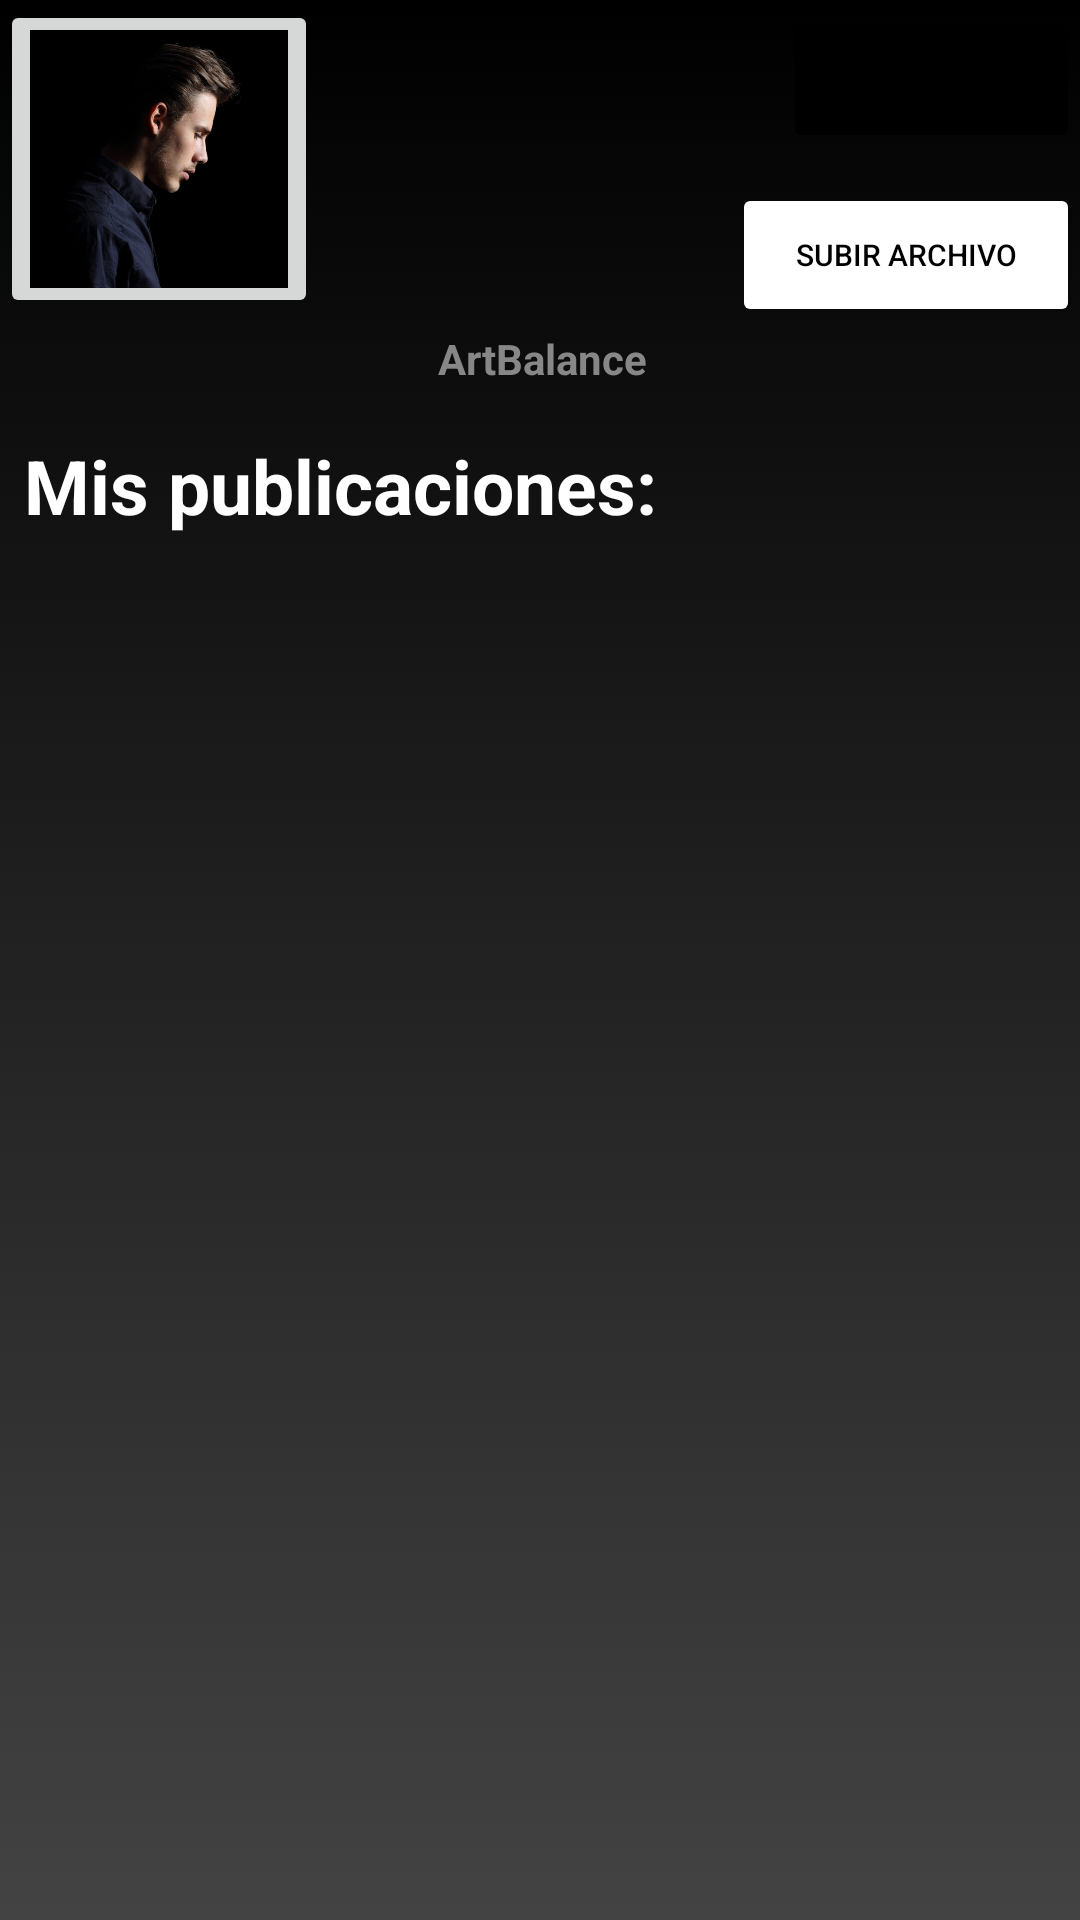

Icons on this 1080x1920 Android screen, each with the point to tap as [x,y]:
perfil: [159,159]
